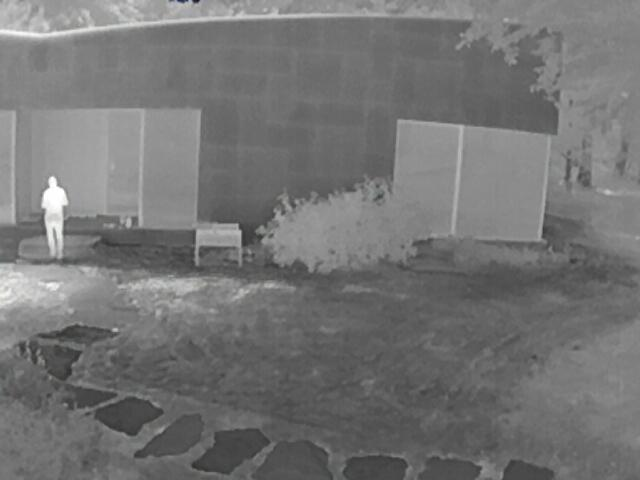person: (42, 174, 68, 260)
